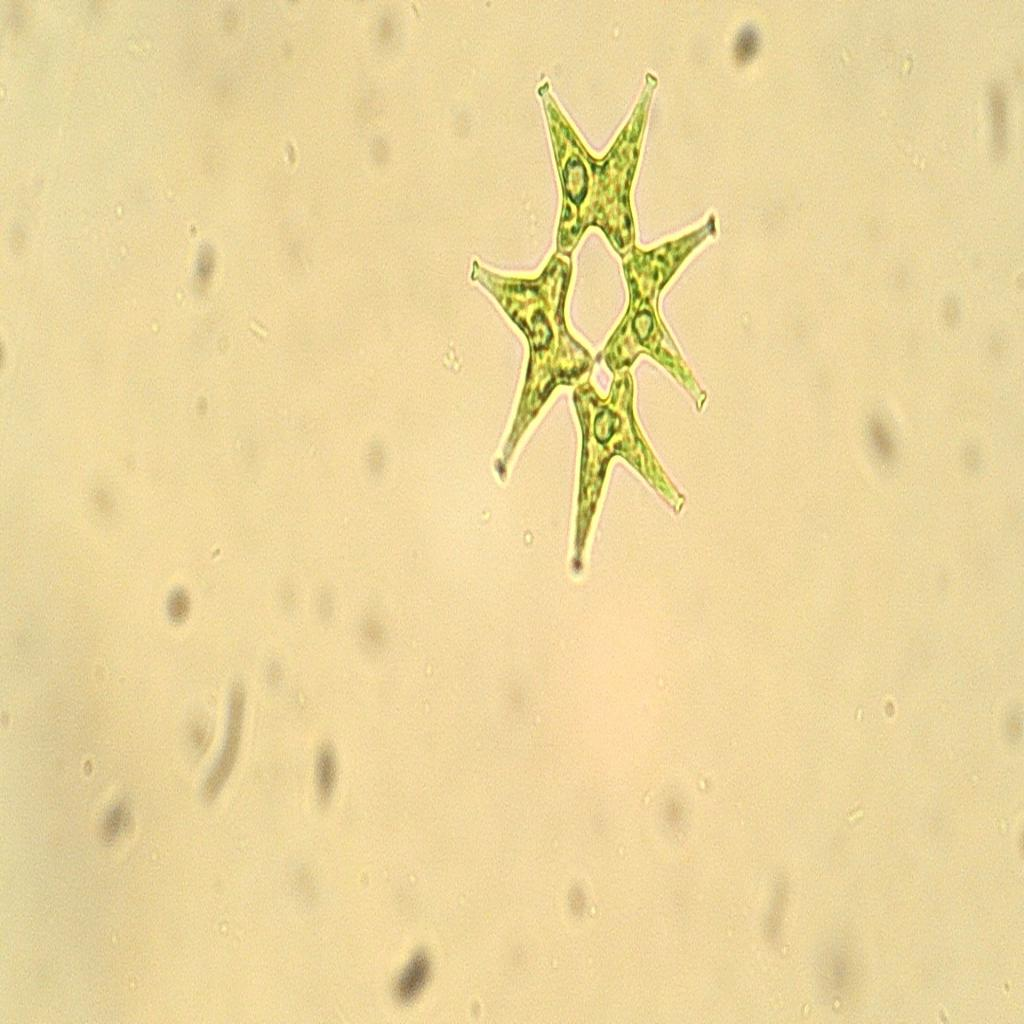Pediastrum_CF: (454, 36, 734, 602)
